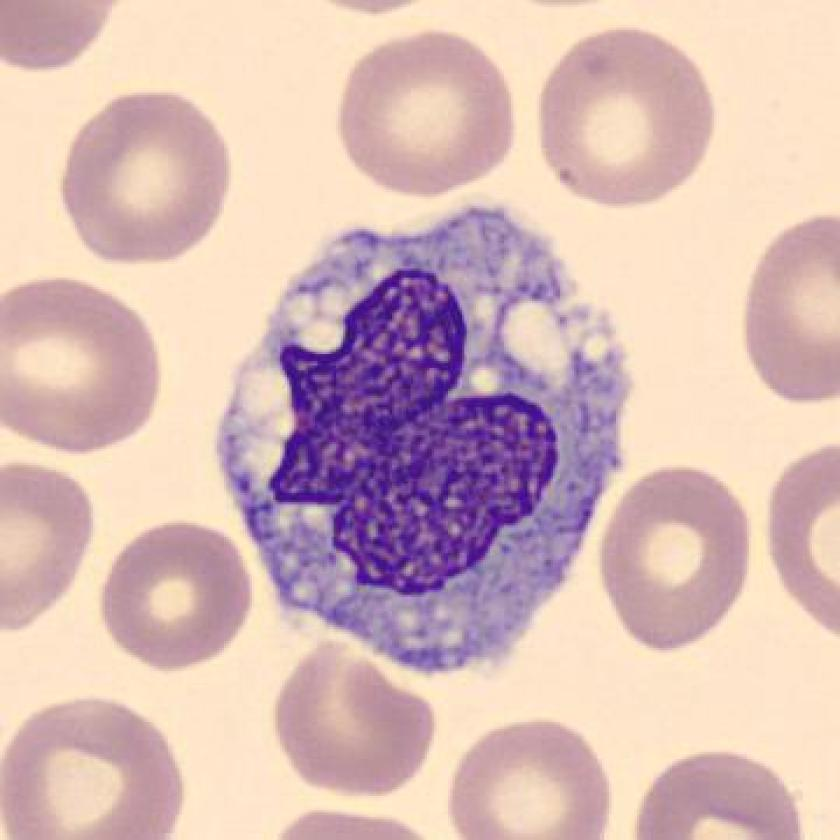monocyte: (204, 189, 650, 696)
